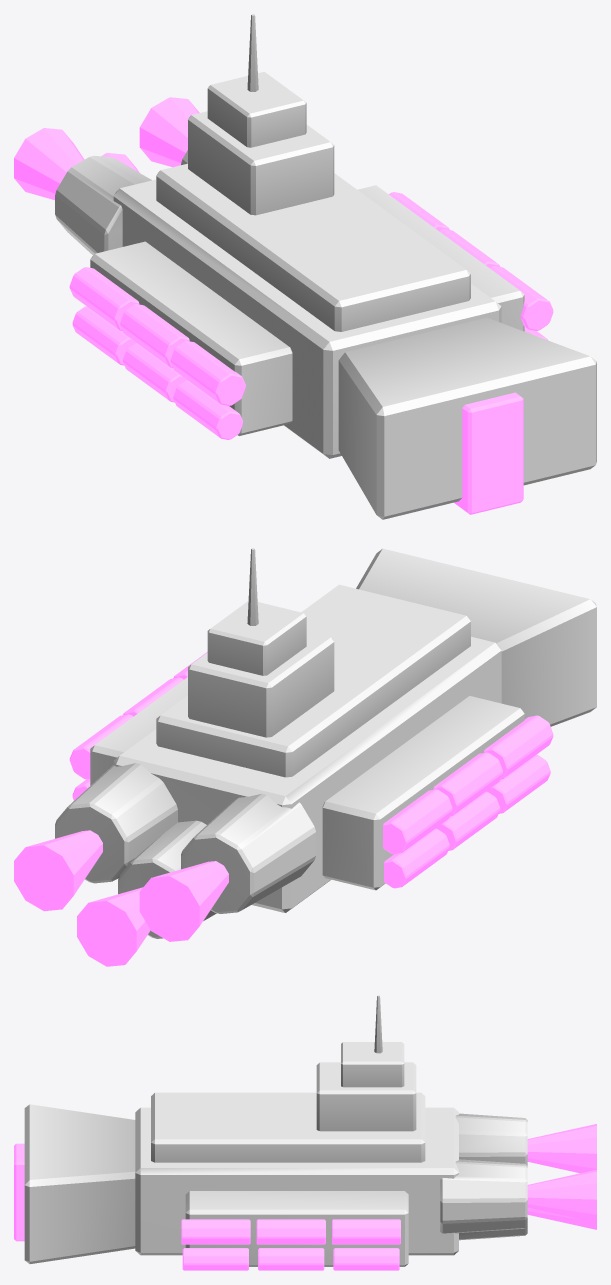
The model's file is e3_rift_frigate.glb.
The picture shows the model from 3 angles, top to bottom: view 1: azimuth 30°, elevation 25°; view 2: azimuth 150°, elevation 25°; view 3: azimuth 270°, elevation 25°; orthographic projection. The views are drawn at different scales.
Parts seen in each view (by area): view 1: HammerheadBow, TopDeck, MainHull, SidePod_-1, BridgeBase, BowSlit, Drive_-0.36, BridgeTop, SidePod_1, Core_Pulse_Drive_-0.36, Core_Pulse_Drive_0.36, Battery_-1_-0.36 (+6 smaller); view 2: TopDeck, MainHull, HammerheadBow, SidePod_-1, Drive_-0.36, BridgeBase, Drive_0.36, BridgeTop, Core_Pulse_Drive_-0.36, Core_Pulse_Drive_0.36, Core_Pulse_Drive_0.0, Drive_0.0 (+10 smaller); view 3: MainHull, HammerheadBow, TopDeck, SidePod_1, Drive_0.36, BridgeBase, Drive_-0.36, BridgeTop, Core_Pulse_Drive_0.36, Core_Pulse_Drive_-0.36, Battery_1_0.14, Battery_1_-0.36 (+8 smaller).
Part boxes in pixels (x1=…): HammerheadBow: x1=338, y1=317, x2=596, y2=519; TopDeck: x1=156, y1=163, x2=470, y2=331; MainHull: x1=113, y1=179, x2=501, y2=458; SidePod_-1: x1=90, y1=241, x2=292, y2=435; BridgeBase: x1=188, y1=111, x2=334, y2=215; BowSlit: x1=454, y1=392, x2=523, y2=514; Drive_-0.36: x1=55, y1=155, x2=151, y2=255; BridgeTop: x1=207, y1=72, x2=306, y2=147; SidePod_1: x1=357, y1=185, x2=524, y2=331; Core_Pulse_Drive_-0.36: x1=14, y1=128, x2=84, y2=200; Core_Pulse_Drive_0.36: x1=139, y1=97, x2=199, y2=167; Battery_-1_-0.36: x1=170, y1=341, x2=245, y2=405; TopDeck: x1=156, y1=584, x2=470, y2=777; MainHull: x1=113, y1=636, x2=501, y2=912; HammerheadBow: x1=356, y1=548, x2=596, y2=726; SidePod_-1: x1=322, y1=696, x2=524, y2=890; Drive_-0.36: x1=181, y1=793, x2=315, y2=913; BridgeBase: x1=188, y1=631, x2=334, y2=737; Drive_0.36: x1=55, y1=763, x2=177, y2=883; BridgeTop: x1=207, y1=601, x2=306, y2=675; Core_Pulse_Drive_-0.36: x1=139, y1=861, x2=228, y2=941; Core_Pulse_Drive_0.36: x1=14, y1=830, x2=102, y2=911; Core_Pulse_Drive_0.0: x1=77, y1=887, x2=150, y2=966; Drive_0.0: x1=118, y1=820, x2=216, y2=938; MainHull: x1=135, y1=1107, x2=458, y2=1255; HammerheadBow: x1=24, y1=1104, x2=135, y2=1263; TopDeck: x1=151, y1=1092, x2=425, y2=1162; SidePod_1: x1=185, y1=1191, x2=408, y2=1266; Drive_0.36: x1=440, y1=1159, x2=527, y2=1233; BridgeBase: x1=316, y1=1062, x2=416, y2=1131; Drive_-0.36: x1=455, y1=1113, x2=527, y2=1165; BridgeTop: x1=341, y1=1042, x2=404, y2=1087; Core_Pulse_Drive_0.36: x1=527, y1=1169, x2=596, y2=1222; Core_Pulse_Drive_-0.36: x1=527, y1=1124, x2=596, y2=1173; Battery_1_0.14: x1=256, y1=1219, x2=325, y2=1244; Battery_1_-0.36: x1=181, y1=1219, x2=250, y2=1244.
Bounding box in the file's own units: 1.55 × 1.42 × 3.1.
